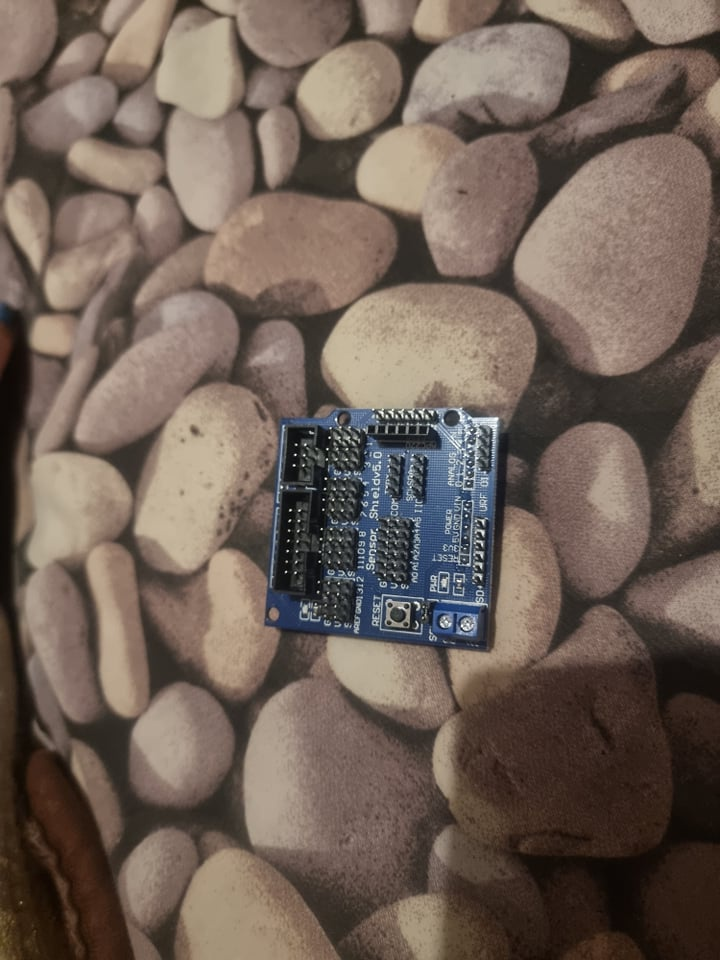5V EXPANSION: (263, 410, 496, 648)
